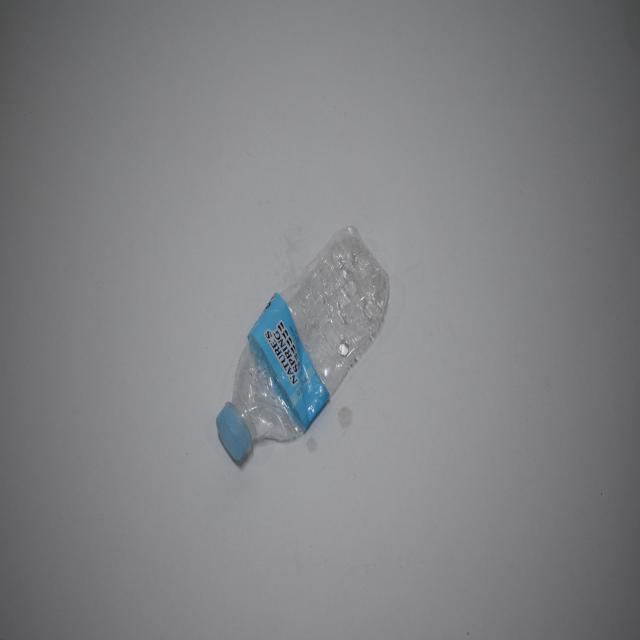bottle: (213, 222, 396, 464)
